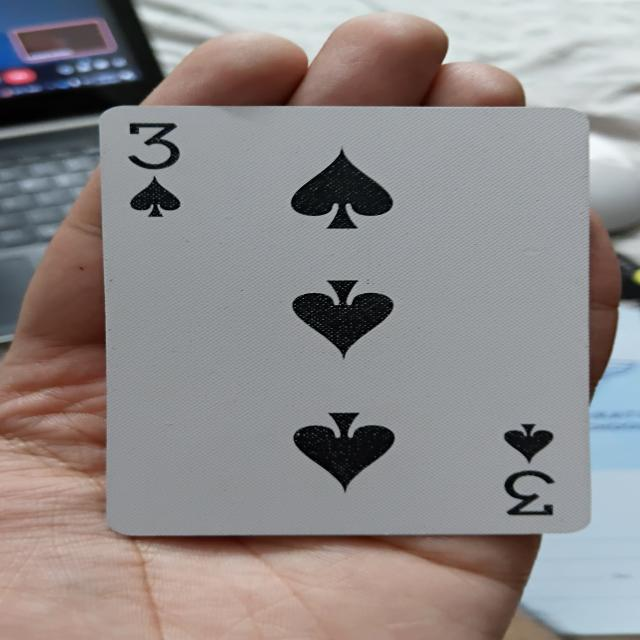3S: (95, 108, 594, 541)
